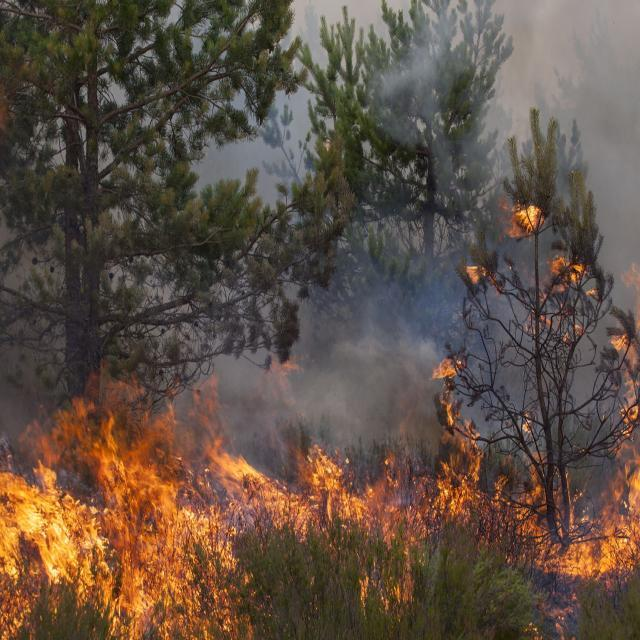Fire: (1, 195, 640, 640)
Smoke: (2, 2, 640, 422)
